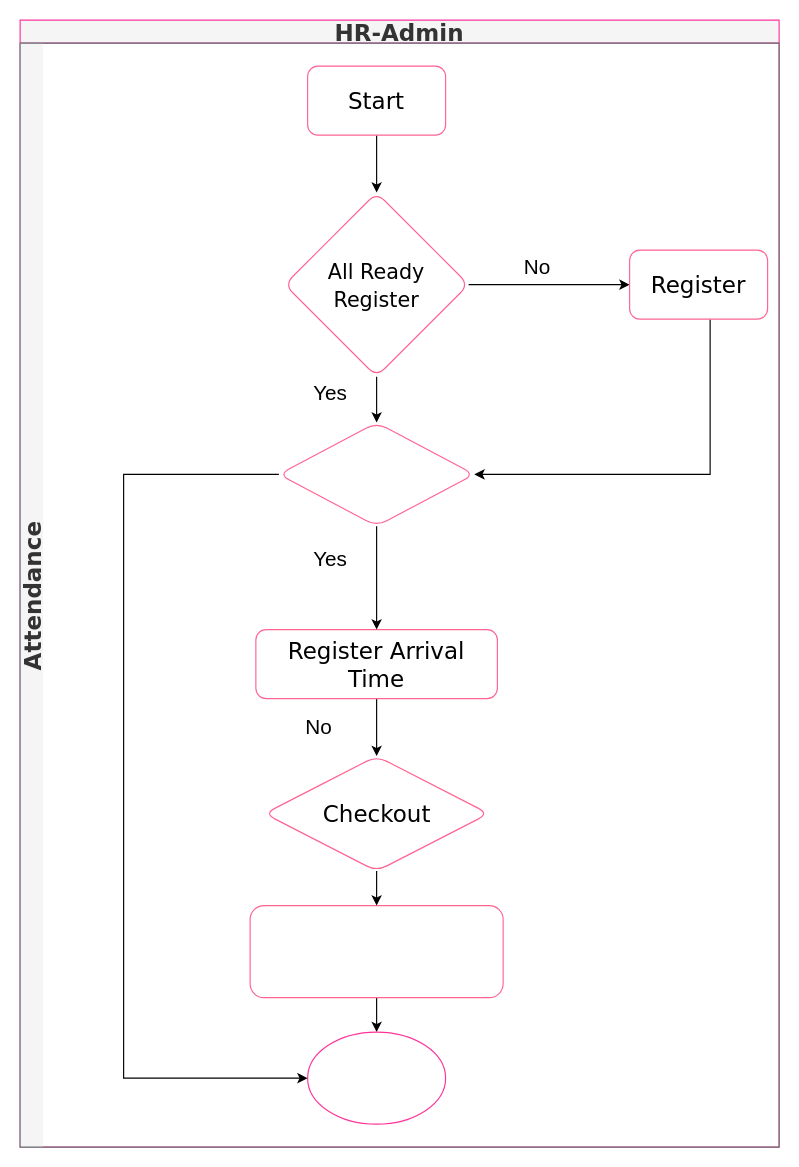
This 799x1167 diagram has some shape labels left out. Here are the shapes that lost their labels. From the top down, the centre of each, then its label:
(376,473): Match ID
(376,951): Register Checkout Time
(376,1077): Stop
